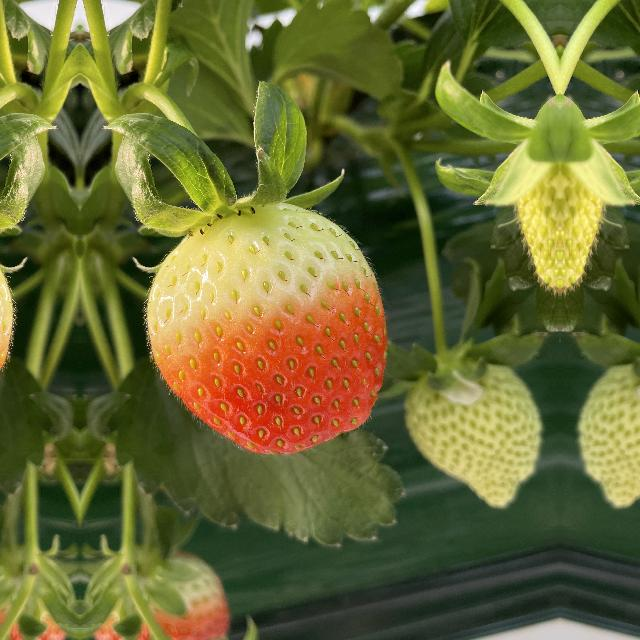Health_25: (406, 352, 544, 516), (576, 352, 640, 515)
Health_75: (147, 198, 396, 464)
